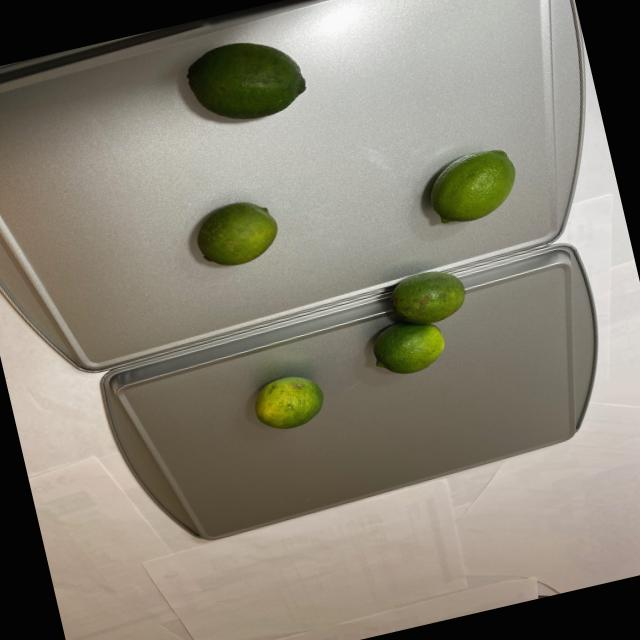lemon: (227, 259, 489, 436), (178, 22, 328, 132), (416, 135, 526, 237), (188, 194, 284, 272)
